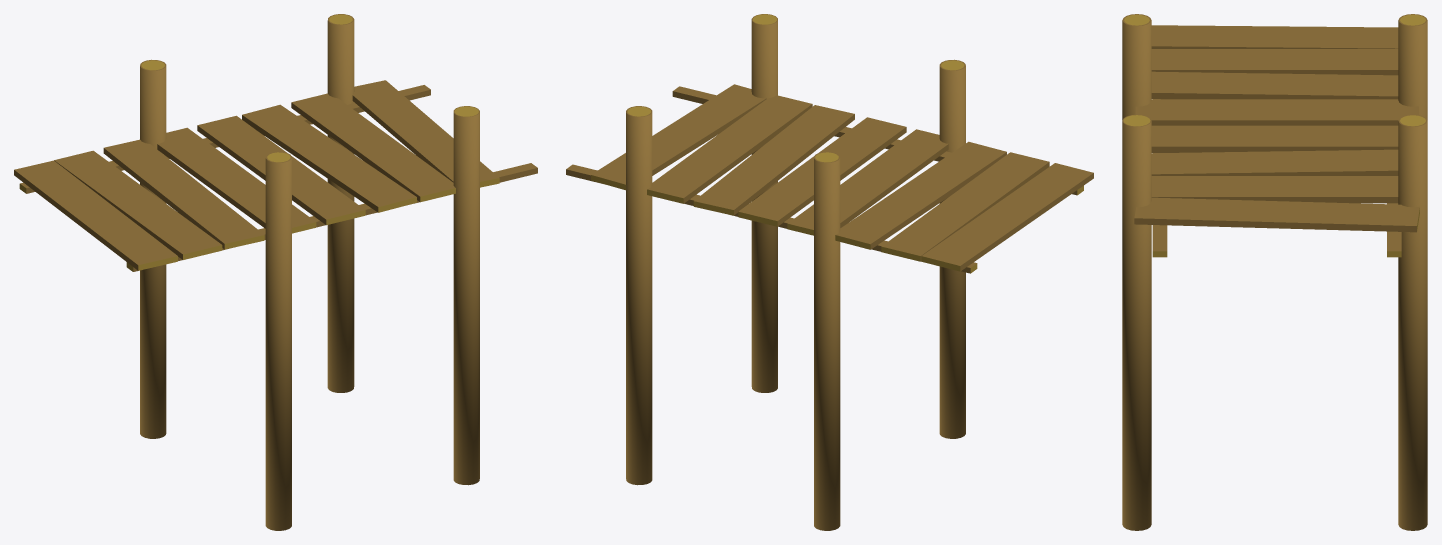
File: Pier.fbx
3 renders of one model, left to right at view 1: azimuth 30°, elevation 25°; view 2: azimuth 150°, elevation 25°; view 3: azimuth 270°, elevation 25°, orthographic. The views are drawn at different scales.
Visible parts, largest first — view 1: Cube; view 2: Cube; view 3: Cube.
Part boxes in pixels (x1,y1,x2,y2): Cube: [14, 14, 537, 530]; Cube: [566, 14, 1093, 530]; Cube: [1122, 14, 1427, 530].
Size of the model in its own units: 2072 by 1790 by 1225.
